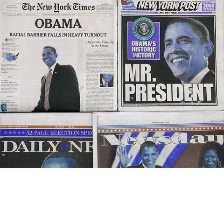news_paper: (0, 0, 118, 113), (116, 0, 224, 114), (92, 109, 224, 169), (0, 112, 96, 170)
